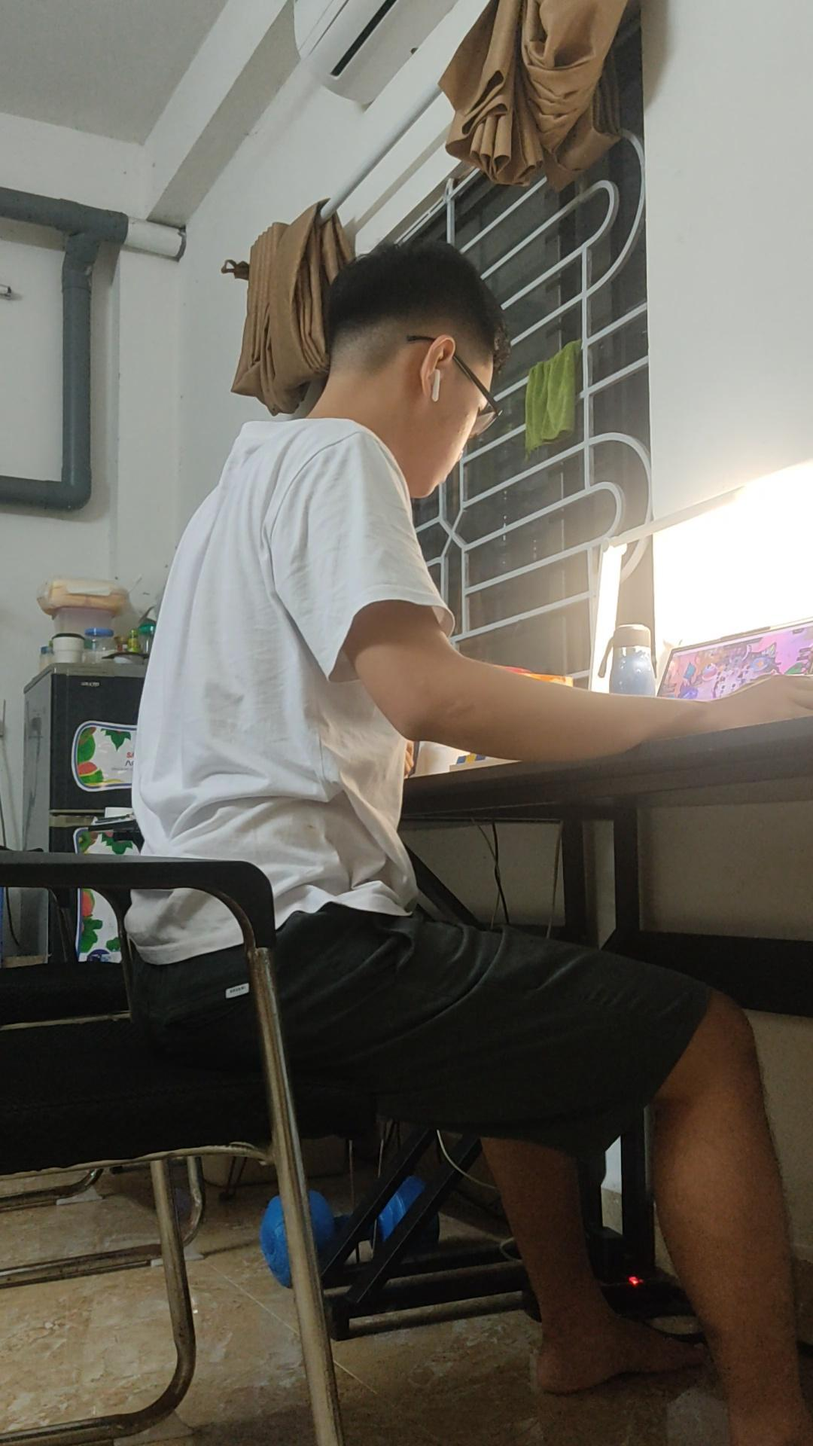GoodPosture: (133, 243, 812, 1445)
